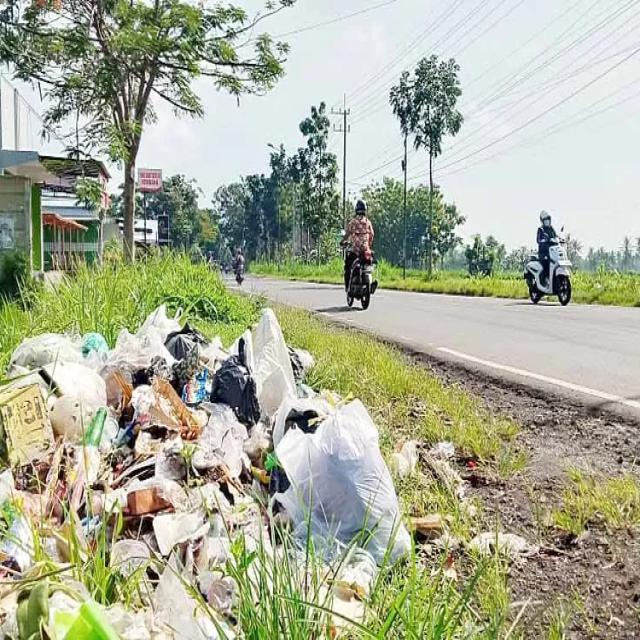trash: (0, 301, 387, 640)
